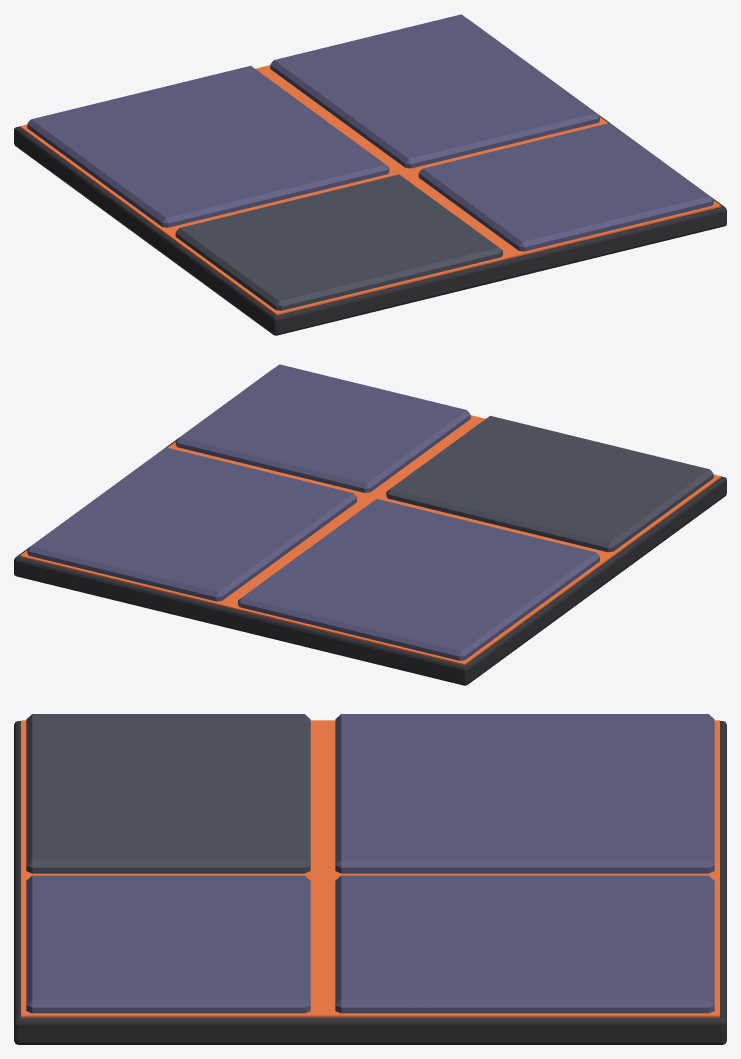
Rendered from basalt-floor-cracks.glb.
3 views of the same model, one above another, from view 1: azimuth 30°, elevation 25°; view 2: azimuth 150°, elevation 25°; view 3: azimuth 270°, elevation 25° (orthographic). The views are drawn at different scales.
Parts seen in each view (by area): view 1: basalt-floor-cracks, glow-basalt-floor-cracks; view 2: basalt-floor-cracks, glow-basalt-floor-cracks; view 3: basalt-floor-cracks, glow-basalt-floor-cracks.
Part boxes in pixels (<box>): basalt-floor-cracks: <box>14,14,726,335</box>; glow-basalt-floor-cracks: <box>20,65,720,315</box>; basalt-floor-cracks: <box>14,364,726,685</box>; glow-basalt-floor-cracks: <box>20,415,720,665</box>; basalt-floor-cracks: <box>14,714,726,1044</box>; glow-basalt-floor-cracks: <box>21,720,719,1017</box>.
Bounding box in the file's own units: 1 × 0.06 × 1.
1 material, 1 textured.
